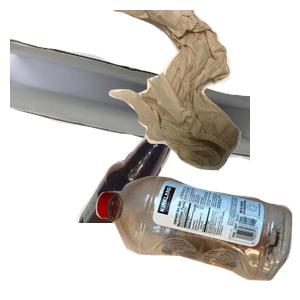cardboard: (10, 35, 250, 188)
glass: (74, 120, 244, 300)
plastic: (93, 173, 300, 300)
trash: (103, 10, 300, 173)
